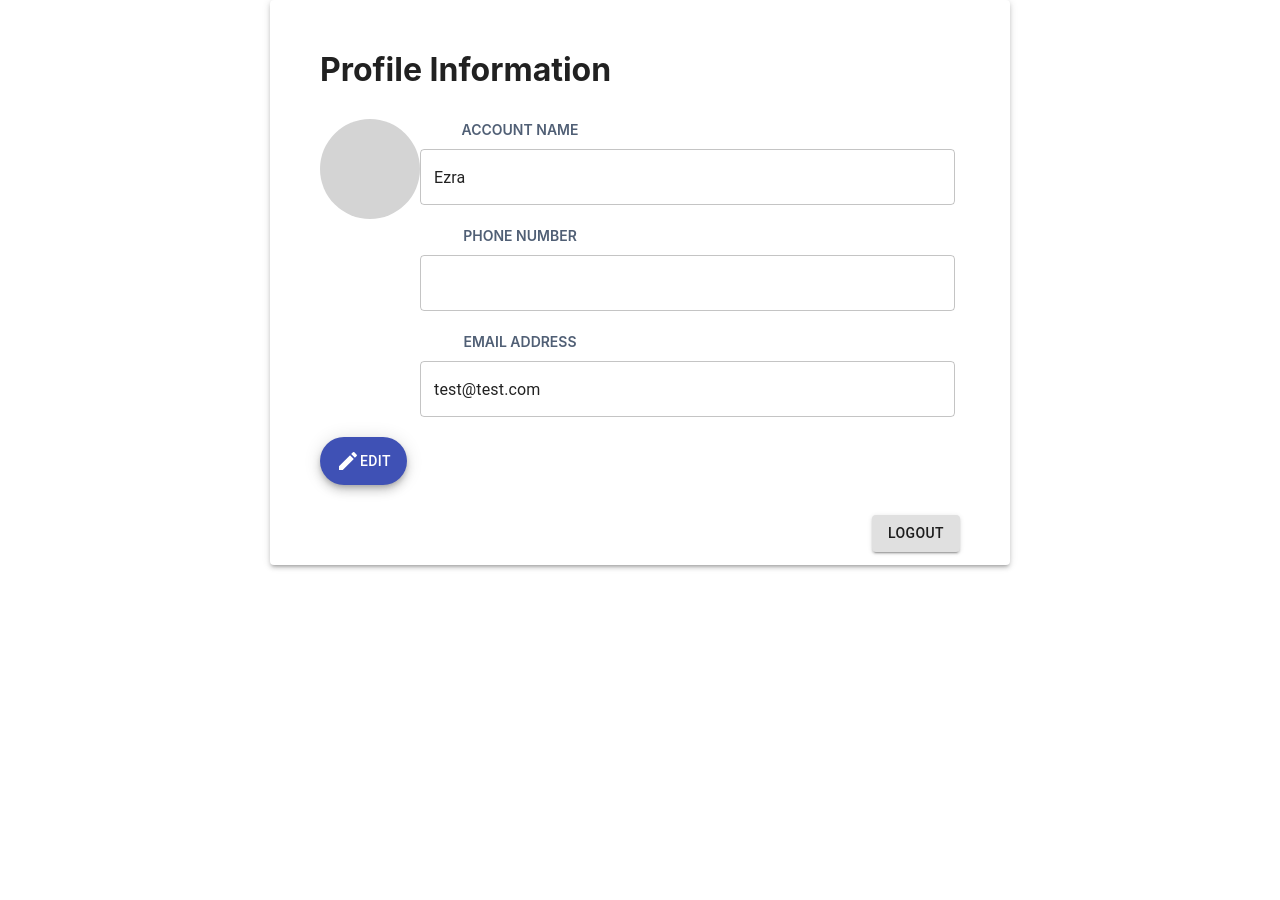
Test: Edit Account Info
Expected: the field showing "Ezra" below "Account Name" is shown, [420,149,955,205]
Expected: the field showing "test@test.com" below "Email Address" is shown, [420,361,955,417]
Click the button "Edit" at (363, 461), box [320,437,407,485]
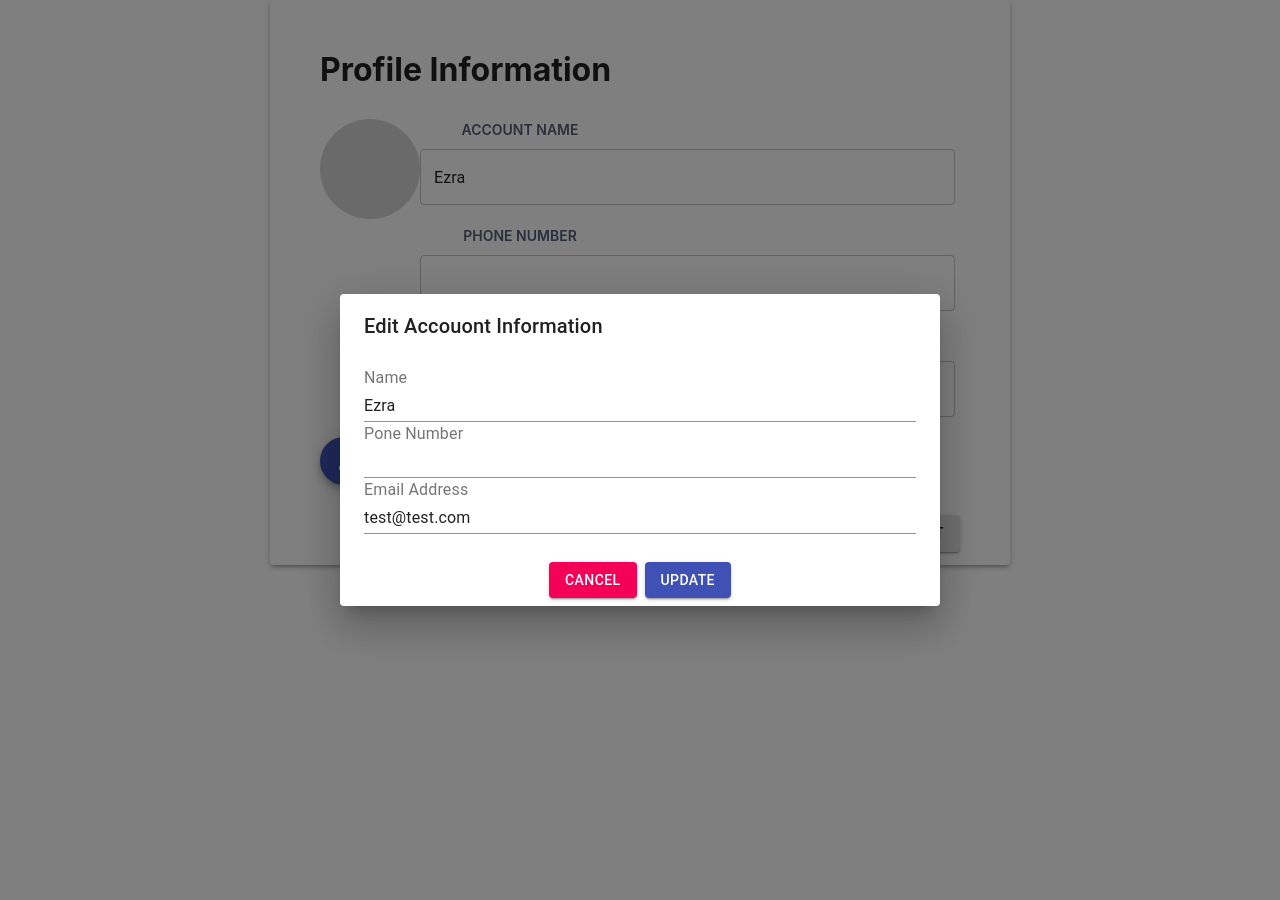
Replace the text in the 1st field showing "Ezra" with "Matt" at (640, 406), box [364,390,916,422]
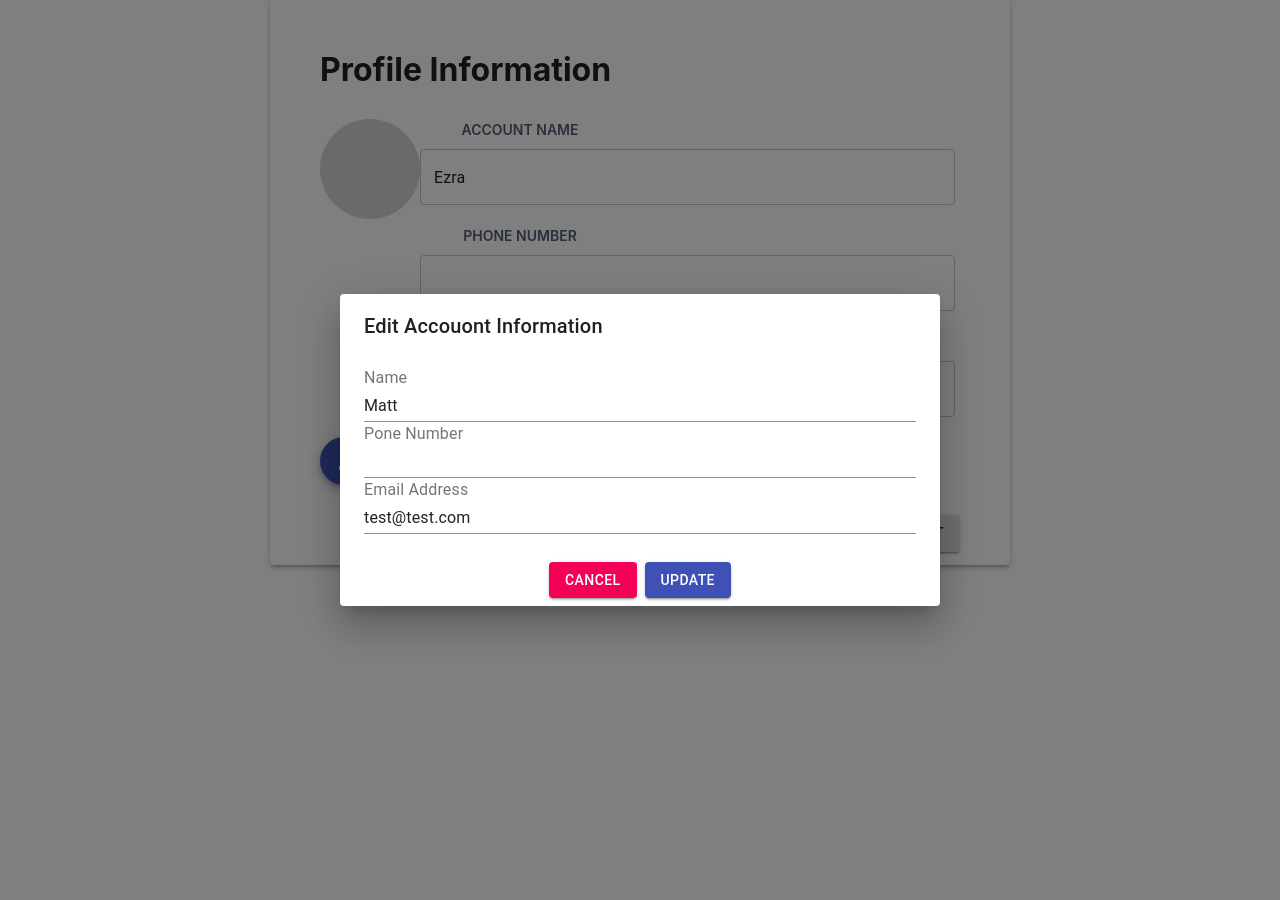
Replace the text in the 3rd field showing "test@test.com" with "newemail@test.com" at (640, 518), box [364,502,916,534]
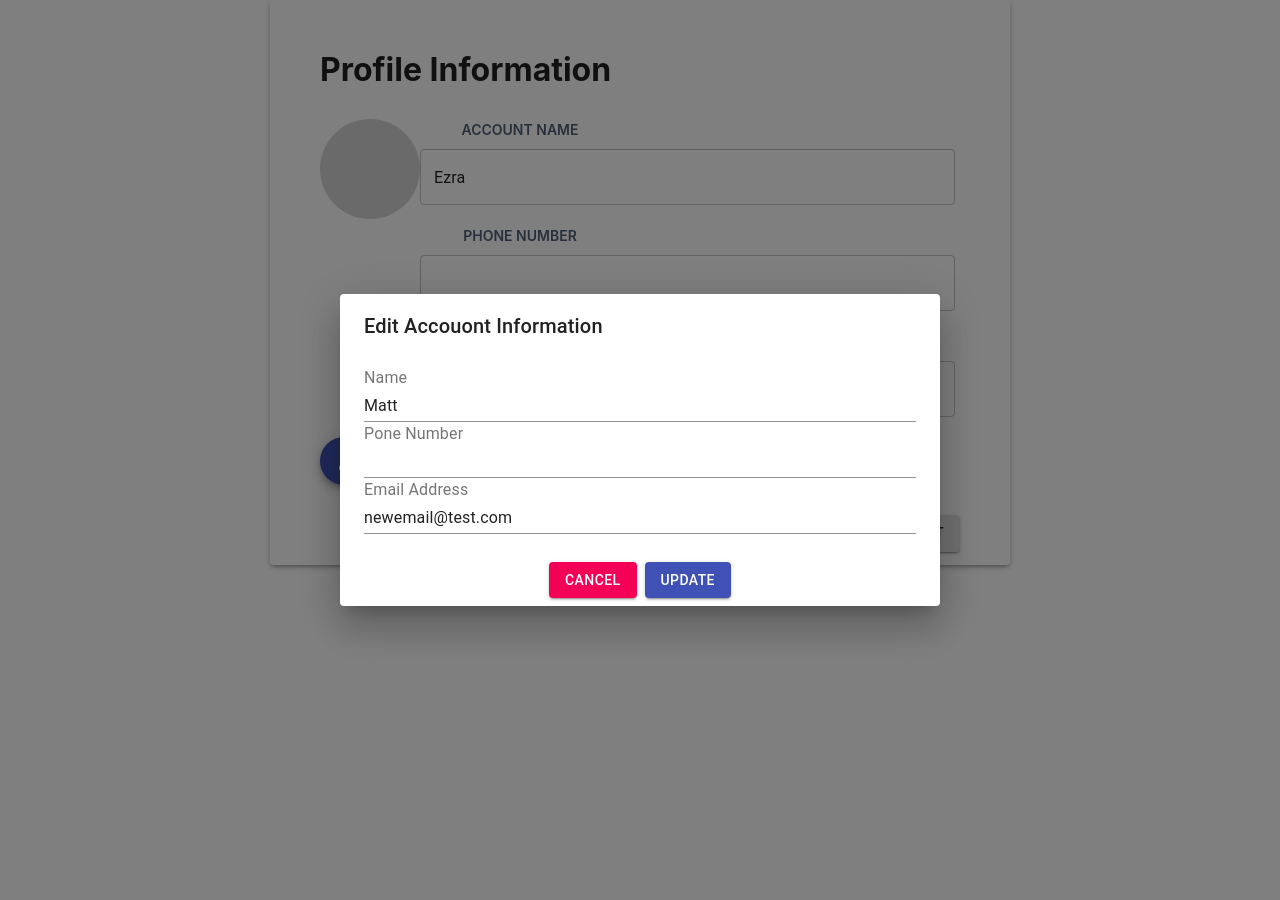
Click the button "Update" at (688, 580), box [644,562,731,598]
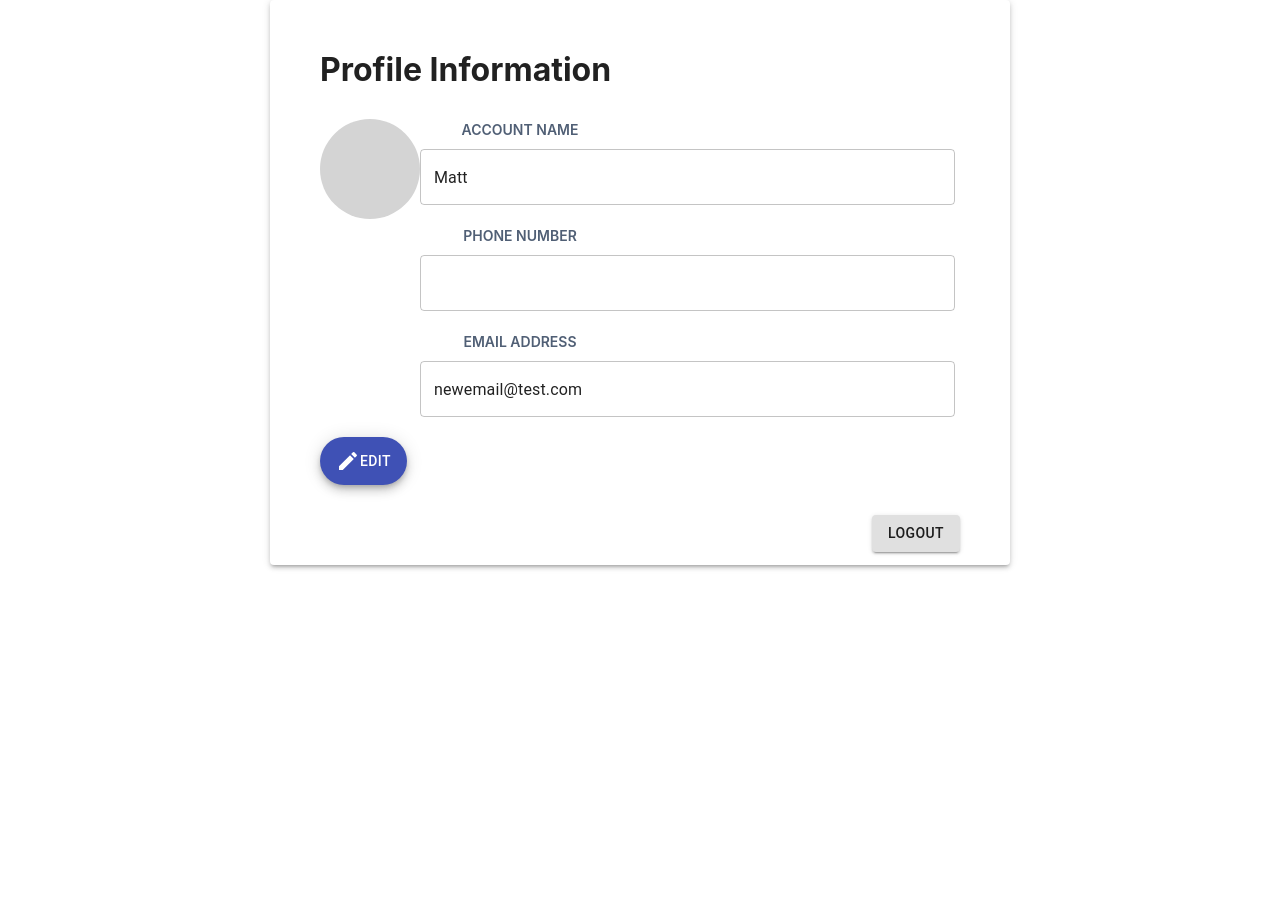
Expected: the number of fields showing "Matt" is 2
Expected: the number of fields showing "newemail@test.com" is 2
